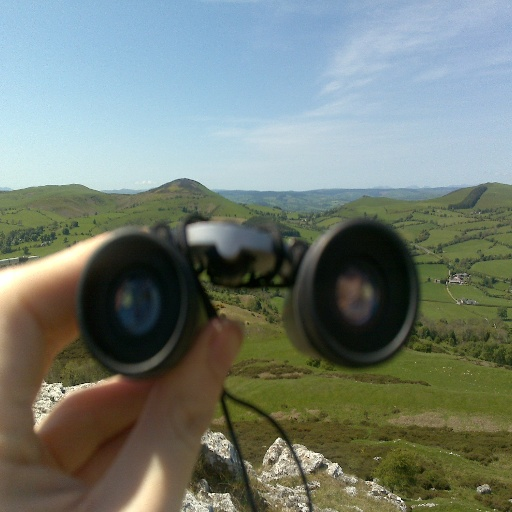hand: (0, 223, 245, 511)
